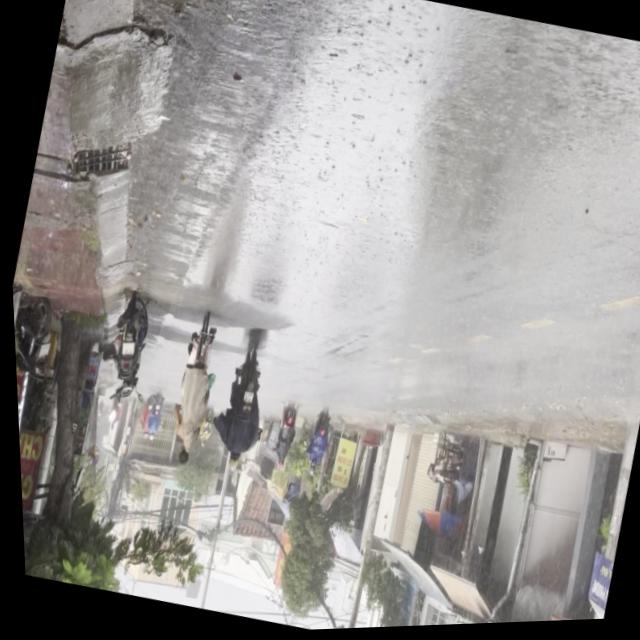nohelmet: (118, 342, 132, 357)
